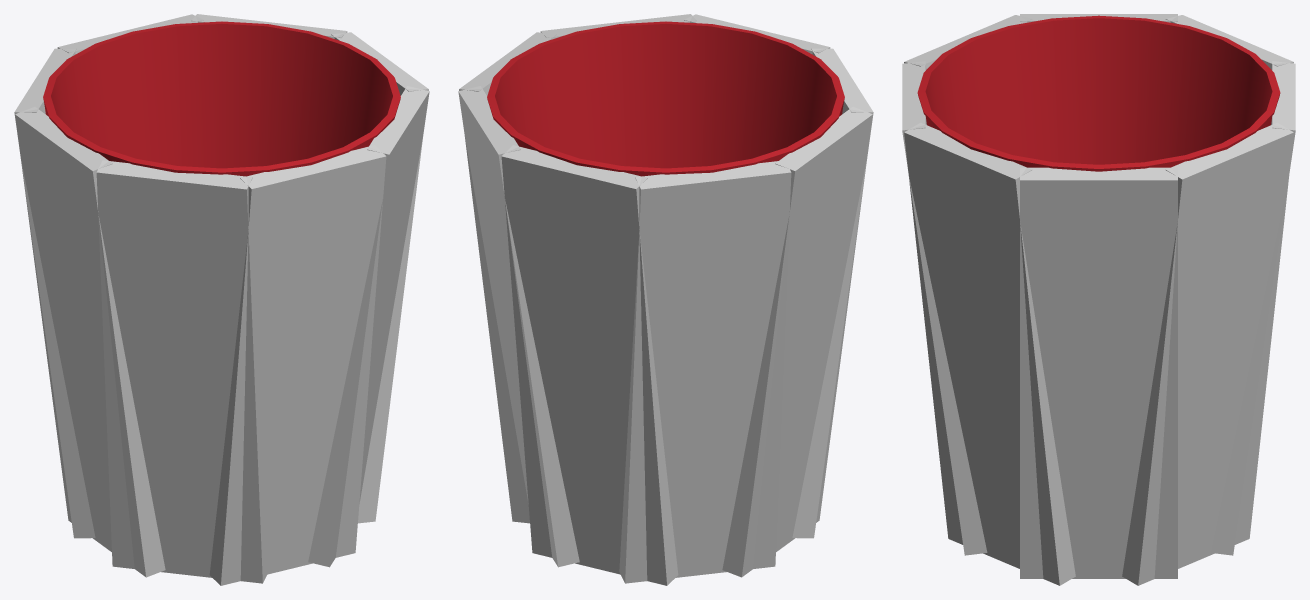
Rendered from Cup.fbx.
3 views of the same model, side by side, from view 1: azimuth 30°, elevation 25°; view 2: azimuth 150°, elevation 25°; view 3: azimuth 270°, elevation 25° (orthographic).
Parts seen in each view (by area): view 1: COL_Cup_Wall4, COL_Cup_Wall5, Prop_Cup, COL_Cup_Wall3, COL_Cup_Wall6, COL_Cup_Wall2, COL_Cup_Wall7, COL_Cup_Wall, COL_Cup_Wall8; view 2: COL_Cup_Wall2, COL_Cup_Wall, Prop_Cup, COL_Cup_Wall3, COL_Cup_Wall8, COL_Cup_Wall4, COL_Cup_Wall7, COL_Cup_Wall5, COL_Cup_Wall6; view 3: COL_Cup_Wall7, Prop_Cup, COL_Cup_Wall6, COL_Cup_Wall8, COL_Cup_Wall, COL_Cup_Wall5, COL_Cup_Wall2, COL_Cup_Wall4, COL_Cup_Wall3.
Part boxes in pixels (bbox=[...]): COL_Cup_Wall4: bbox=[96, 160, 268, 583]; COL_Cup_Wall5: bbox=[209, 145, 386, 585]; Prop_Cup: bbox=[43, 21, 400, 176]; COL_Cup_Wall3: bbox=[15, 106, 165, 577]; COL_Cup_Wall6: bbox=[308, 86, 429, 567]; COL_Cup_Wall2: bbox=[14, 48, 95, 538]; COL_Cup_Wall7: bbox=[331, 32, 428, 523]; COL_Cup_Wall: bbox=[57, 14, 203, 54]; COL_Cup_Wall8: bbox=[191, 14, 347, 38]; COL_Cup_Wall2: bbox=[619, 160, 791, 583]; COL_Cup_Wall: bbox=[501, 145, 678, 585]; Prop_Cup: bbox=[487, 21, 844, 176]; COL_Cup_Wall3: bbox=[722, 106, 872, 577]; COL_Cup_Wall8: bbox=[458, 86, 579, 567]; COL_Cup_Wall4: bbox=[792, 48, 873, 538]; COL_Cup_Wall7: bbox=[459, 32, 556, 523]; COL_Cup_Wall5: bbox=[684, 14, 830, 54]; COL_Cup_Wall6: bbox=[540, 14, 696, 38]; COL_Cup_Wall7: bbox=[1020, 167, 1177, 578]; Prop_Cup: bbox=[917, 15, 1280, 171]; COL_Cup_Wall6: bbox=[904, 122, 1075, 585]; COL_Cup_Wall8: bbox=[1122, 122, 1293, 585]; COL_Cup_Wall: bbox=[1210, 61, 1295, 555]; COL_Cup_Wall5: bbox=[902, 61, 987, 555]; COL_Cup_Wall2: bbox=[1165, 15, 1293, 69]; COL_Cup_Wall4: bbox=[904, 15, 1032, 69]; COL_Cup_Wall3: bbox=[1020, 14, 1177, 22].
Bounding box in the file's own units: 0.0998 × 0.1205 × 0.0998.
